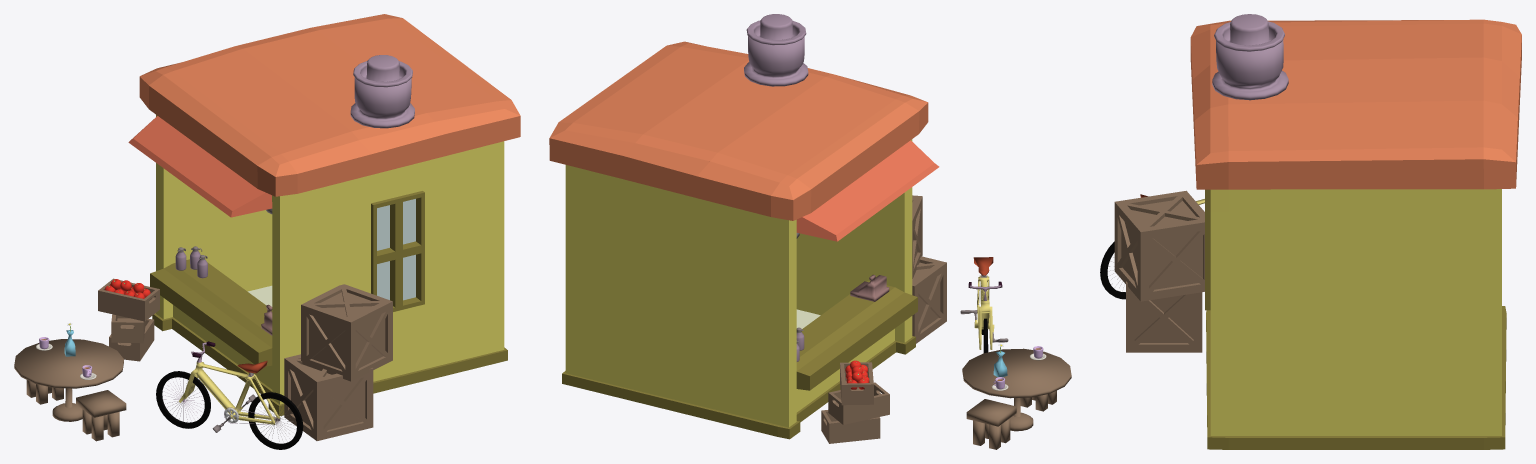
The picture shows the model from 3 angles, left to right: view 1: azimuth 30°, elevation 25°; view 2: azimuth 150°, elevation 25°; view 3: azimuth 270°, elevation 25°; orthographic projection. The views are drawn at different scales.
Parts seen in each view (by area): view 1: House, Crate.001, Crate, Table, Vent, Bicycle, Chair 2, ApplesBox.002, Circle.005, Circle, ApplesBox.001, ApplesBox (+1 smaller); view 2: House, Table, Vent, Crate, Chair 1, Bicycle, ApplesBox.001, ApplesBox, ApplesBox.002, Crate.001, Cashier; view 3: House, Crate.001, Vent, Crate, Circle.
Part boxes in pixels (x1,y1,x2,y2): House: [128, 14, 520, 415]; Crate.001: [301, 284, 392, 381]; Crate: [284, 354, 373, 440]; Table: [14, 339, 123, 421]; Vent: [350, 55, 414, 128]; Bicycle: [178, 341, 280, 432]; Chair 2: [76, 390, 126, 441]; ApplesBox.002: [98, 278, 159, 321]; Circle.005: [156, 371, 210, 428]; Circle: [248, 392, 303, 449]; ApplesBox.001: [111, 314, 145, 343]; ApplesBox: [109, 319, 154, 361]; House: [549, 41, 939, 439]; Table: [962, 348, 1071, 431]; Vent: [744, 14, 808, 86]; Crate: [912, 256, 946, 343]; Chair 1: [966, 399, 1016, 449]; Bicycle: [960, 257, 1008, 349]; ApplesBox.001: [828, 382, 889, 424]; ApplesBox: [821, 410, 880, 443]; ApplesBox.002: [840, 362, 873, 405]; Crate.001: [912, 195, 922, 278]; Cashier: [850, 274, 889, 301]; House: [1190, 19, 1521, 449]; Crate.001: [1114, 190, 1204, 301]; Vent: [1212, 14, 1288, 100]; Crate: [1126, 281, 1202, 352]; Circle: [1100, 241, 1125, 299].
Size of what is drawn, in the model's own units: 4.14 by 2.78 by 2.89.
